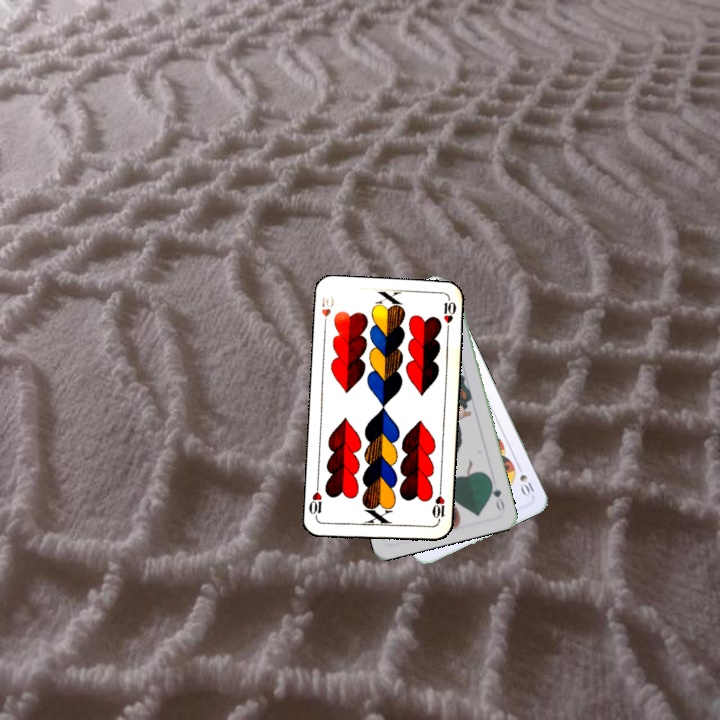GO: (486, 475, 507, 514)
H10: (317, 292, 337, 331), (428, 485, 447, 525)
S10: (516, 470, 537, 499)
